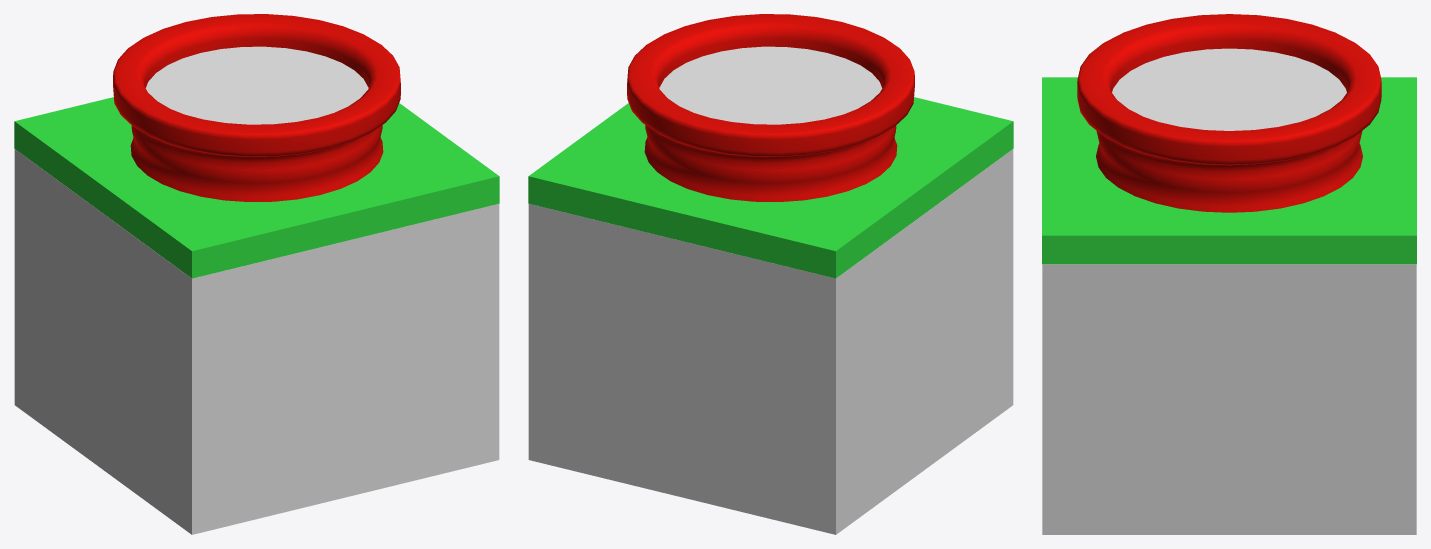
3 renders of one model, left to right at view 1: azimuth 30°, elevation 25°; view 2: azimuth 150°, elevation 25°; view 3: azimuth 270°, elevation 25°, orthographic. The views are drawn at different scales.
Parts seen in each view (by area): view 1: Cube.023; view 2: Cube.023; view 3: Cube.023.
Part boxes in pixels (<box>): Cube.023: <box>14,14,499,534</box>; Cube.023: <box>528,14,1013,534</box>; Cube.023: <box>1042,14,1416,534</box>.
Size of the model in its own units: 150 by 168 by 150.
